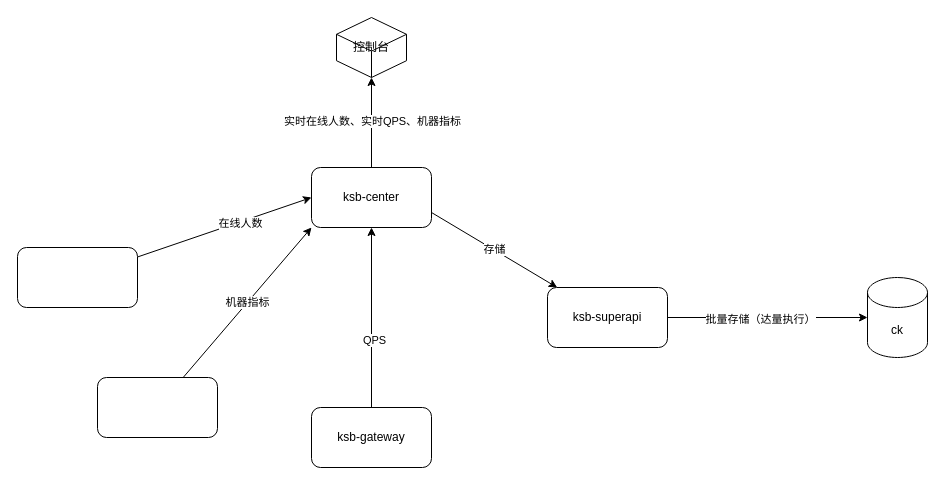
This 945x485 diagram has some shape labels left out. Each missing label, with the centre of its shape:
ksb-live: pixel 77 277
ksb-user ....: pixel 157 407
